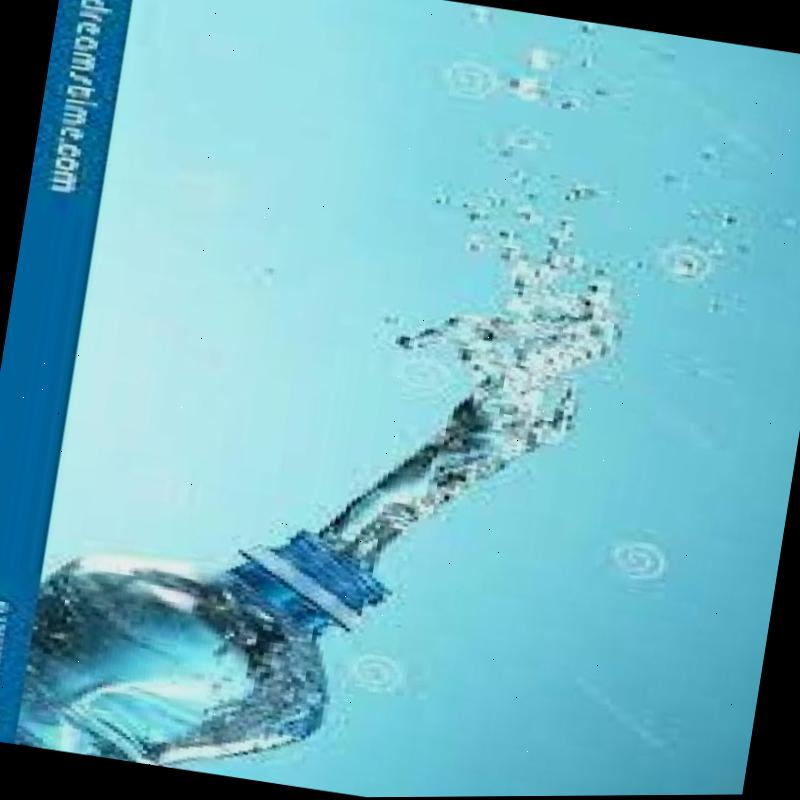botella: (16, 490, 402, 799)
